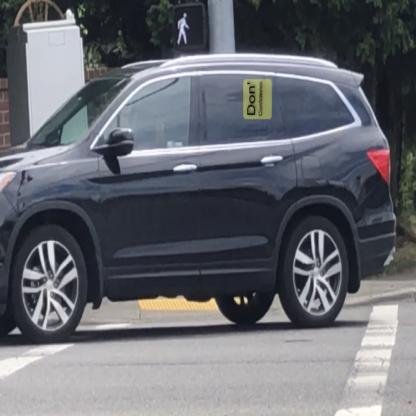Walk: (168, 0, 206, 52)
